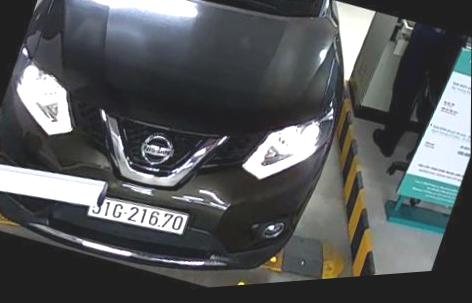License_Plate: (87, 186, 187, 246)
